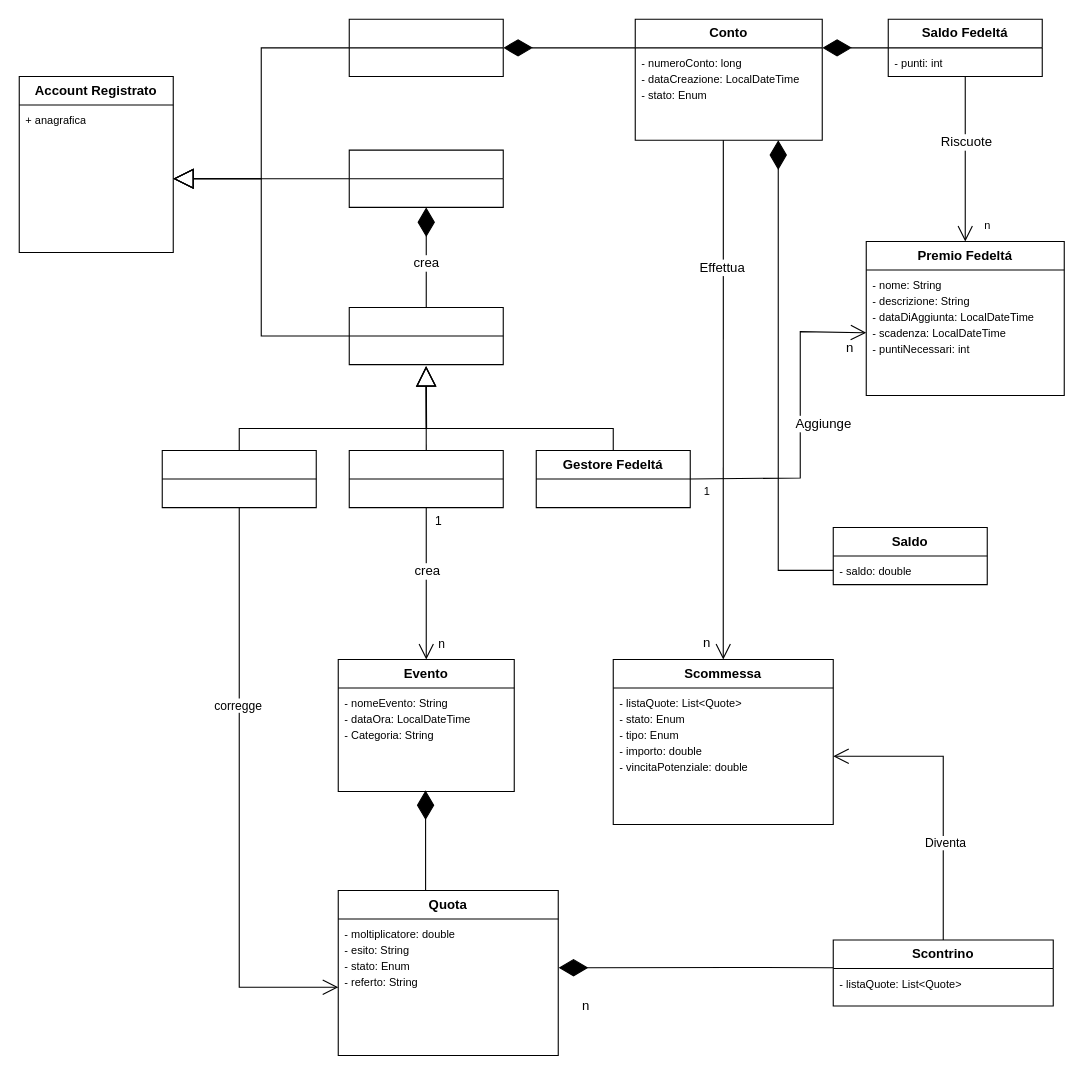
The diagram is 1084 pixels wide and 1078 high, and some of its shapes have lost their labels. The centre of each missing label's shape, as x and y in pixels:
"Admin" goes at pixel 425 178.
"Gestore" goes at pixel 425 335.
"Gestore Evento" goes at pixel 425 478.
"Gestore Referti" goes at pixel 238 478.
"Utente" goes at pixel 425 47.
